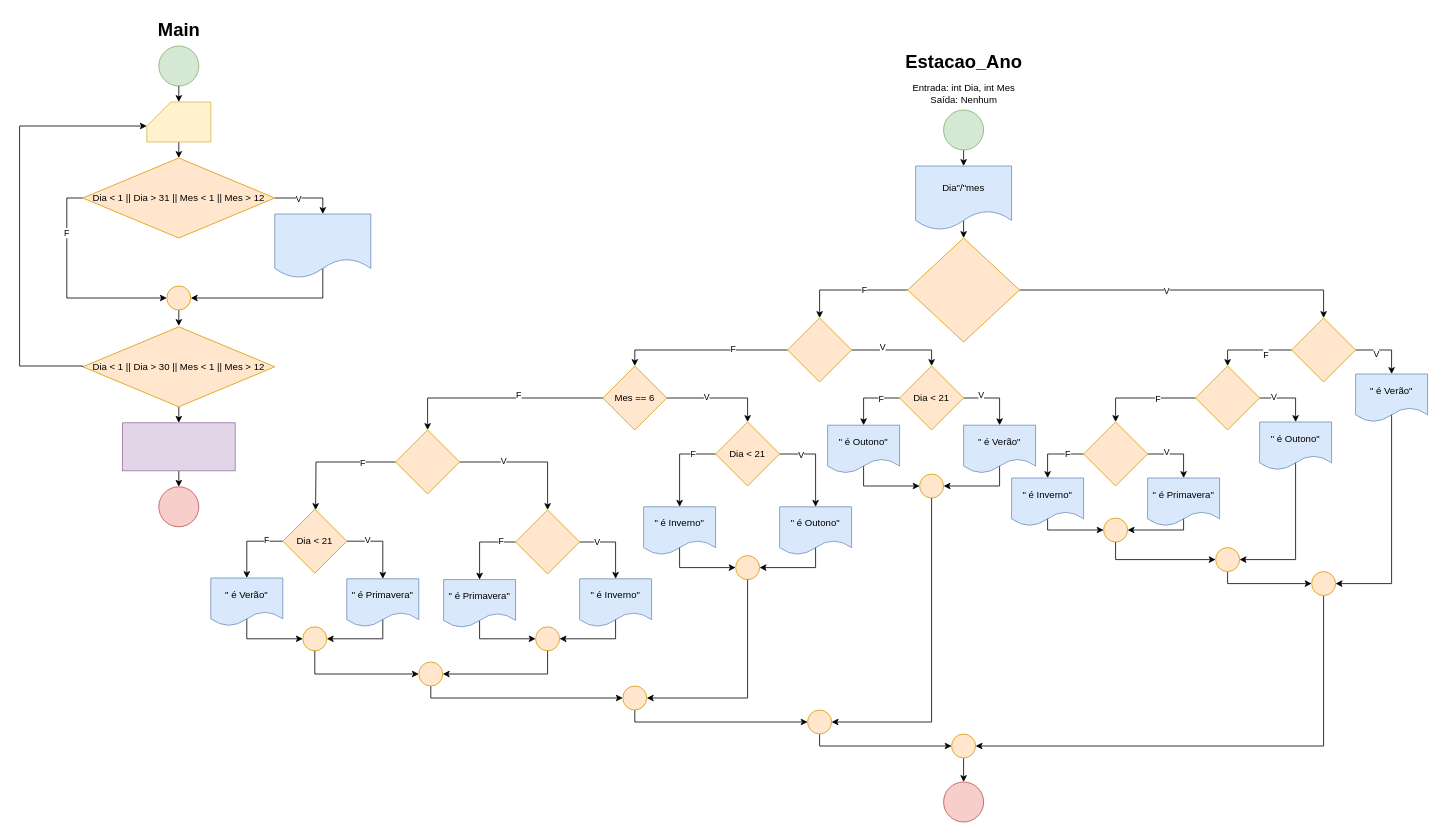
The diagram is 1442 pixels wide and 836 high, and some of its shapes have lost their labels. The shapes that lost their labels are listed below. From the top down, each one's box as (x1, y1, x2, y2) in pixels, then its label:
(146, 101, 211, 142): Dia, Mes
(274, 213, 371, 278): " Números inválidos, digite novamente"
(907, 237, 1020, 342): Mes != 3 && Mes != 6 && Mes != 9 && Mes != 12
(787, 317, 852, 382): Mes == 3
(1291, 317, 1356, 382): Mes < 3
(1195, 365, 1260, 430): Mes < 6
(122, 422, 235, 471): Estacao_Ano(Dia, Mes)
(395, 429, 460, 494): Mes == 9
(1083, 421, 1148, 486): Mes < 9
(515, 509, 580, 574): Dia < 23
